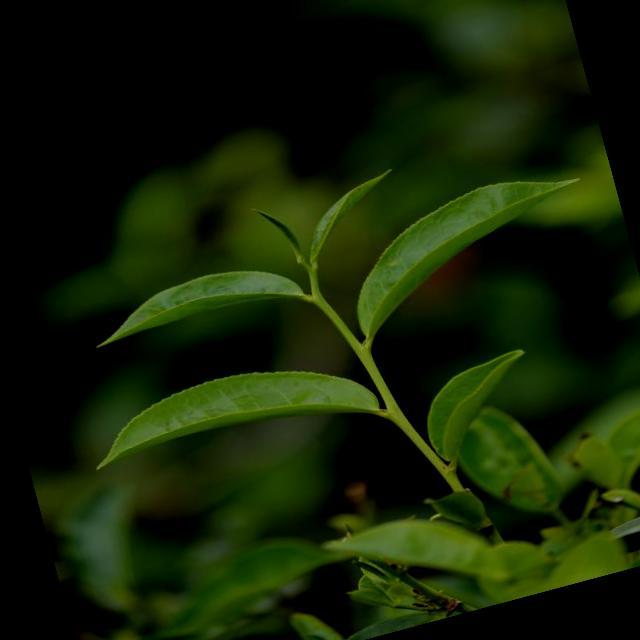Stem: (315, 297, 346, 332)
